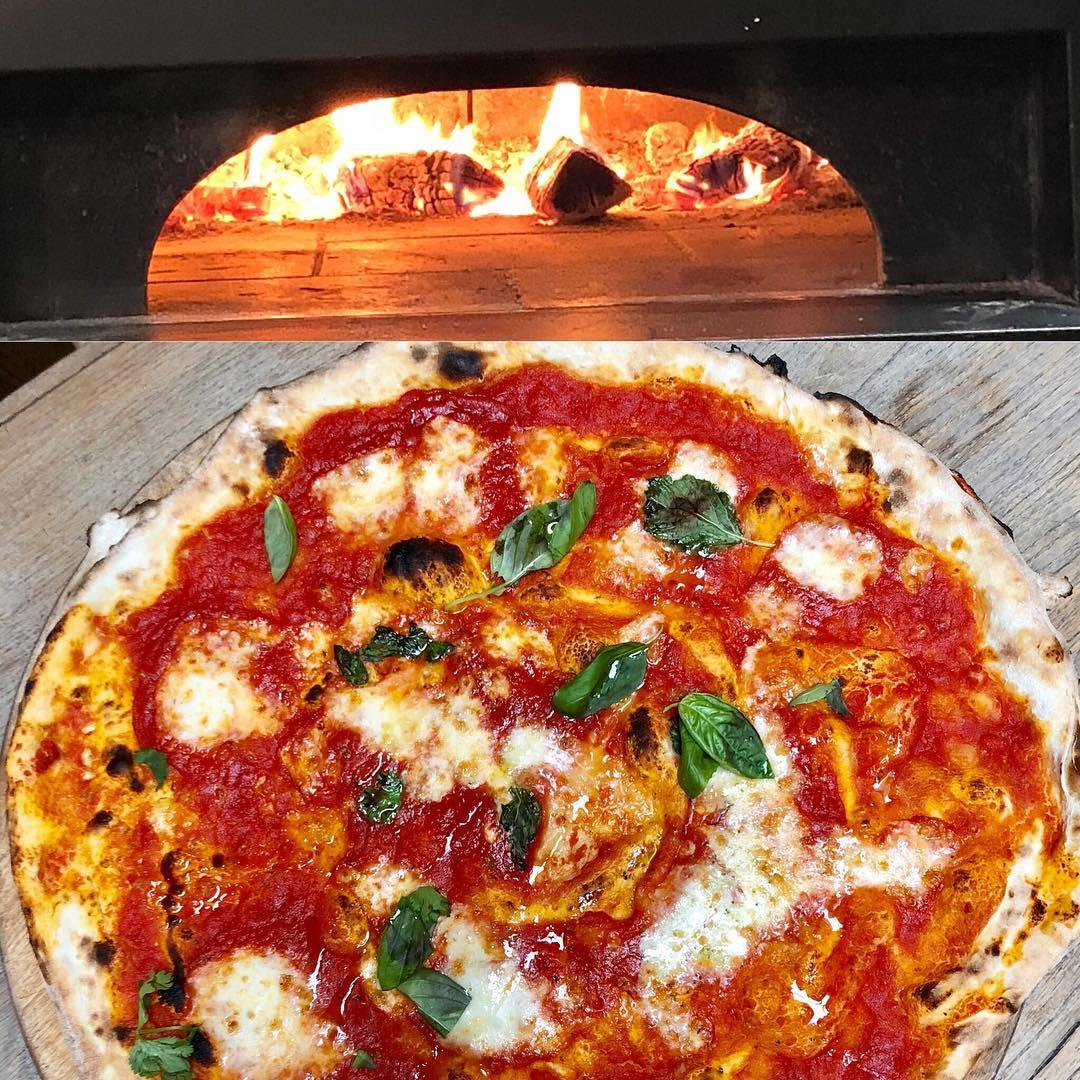Basil: (480, 483, 608, 584), (672, 686, 768, 810), (376, 886, 460, 1020), (113, 963, 208, 1080), (541, 631, 648, 714), (645, 478, 752, 558), (264, 486, 312, 580), (491, 787, 542, 873), (343, 774, 405, 816)
Cheese: (669, 771, 929, 963), (337, 675, 549, 784), (201, 933, 337, 1080), (421, 901, 536, 1055), (325, 433, 489, 529), (157, 639, 297, 748), (777, 515, 882, 593)
Pizza: (12, 338, 1080, 1080)
